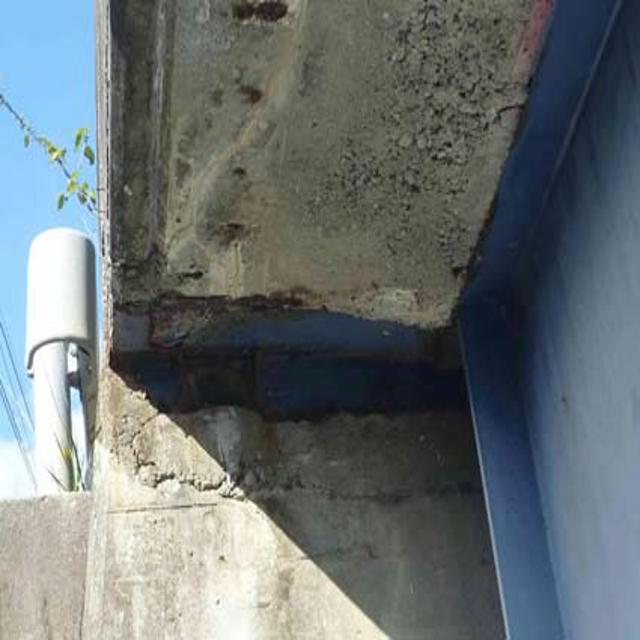corrosion: (114, 287, 464, 434)
